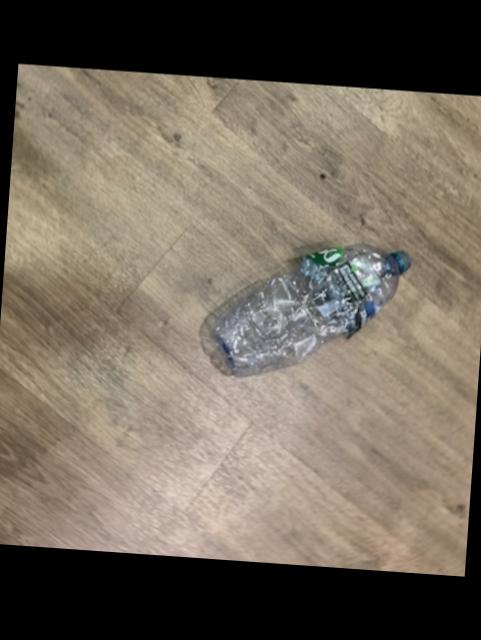plastic: (201, 246, 410, 378)
